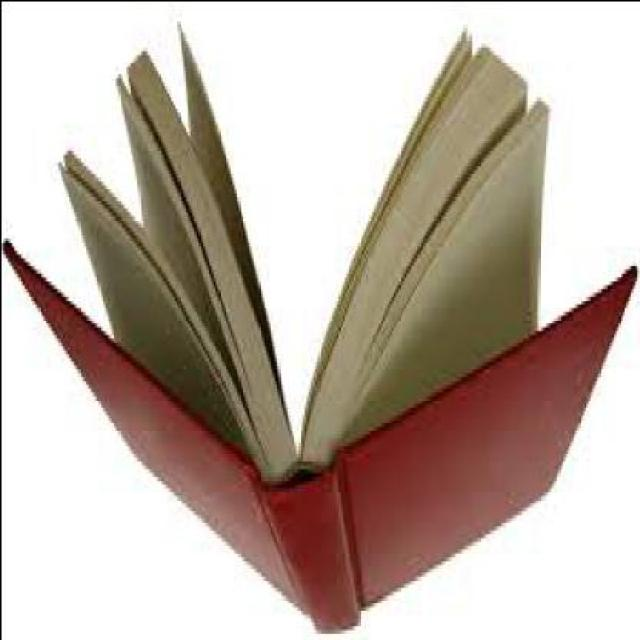PAPER: (2, 22, 638, 628)
